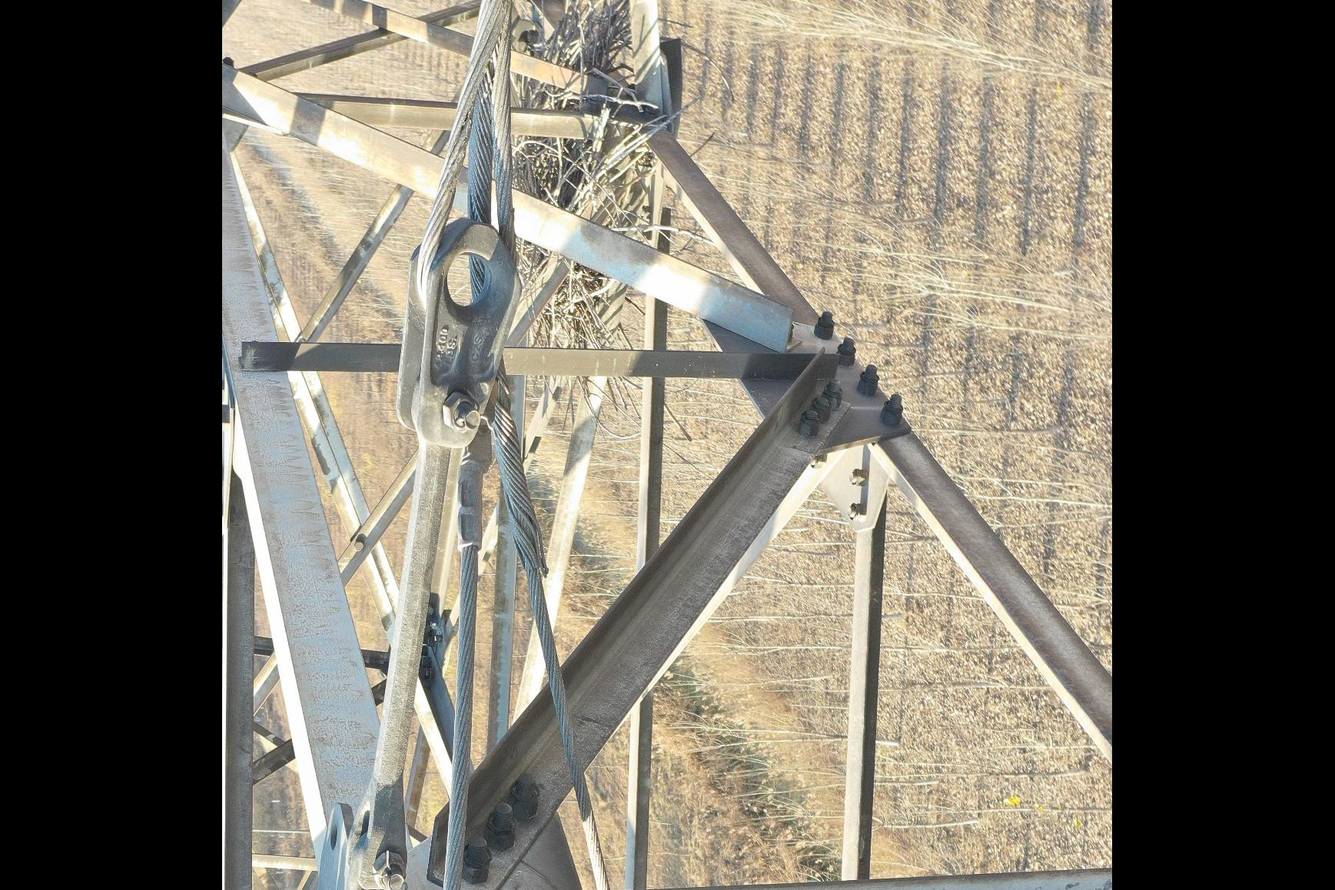nest: (496, 1, 671, 346)
